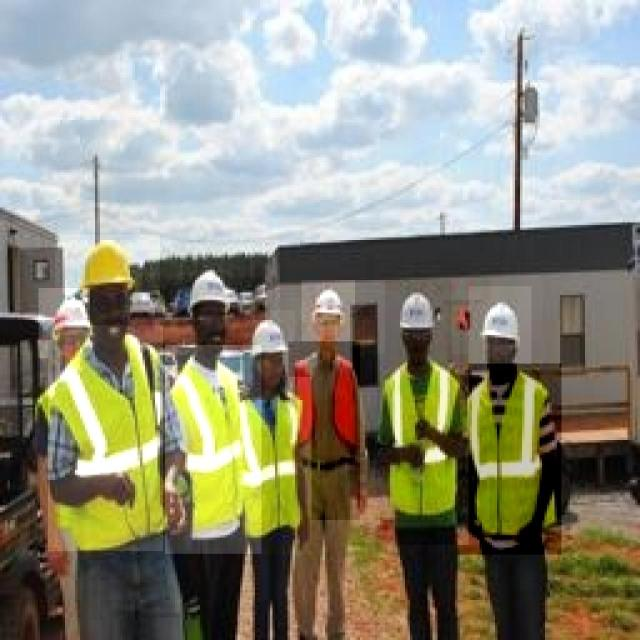Helmet: (55, 235, 160, 352), (385, 280, 451, 379), (170, 257, 246, 341), (468, 286, 532, 377), (245, 311, 295, 388), (38, 288, 90, 358), (301, 280, 355, 343), (125, 278, 160, 343)
Safety Vest: (48, 325, 164, 551), (165, 345, 261, 554), (457, 363, 562, 554), (376, 354, 468, 545), (288, 341, 360, 520), (244, 377, 312, 555)
